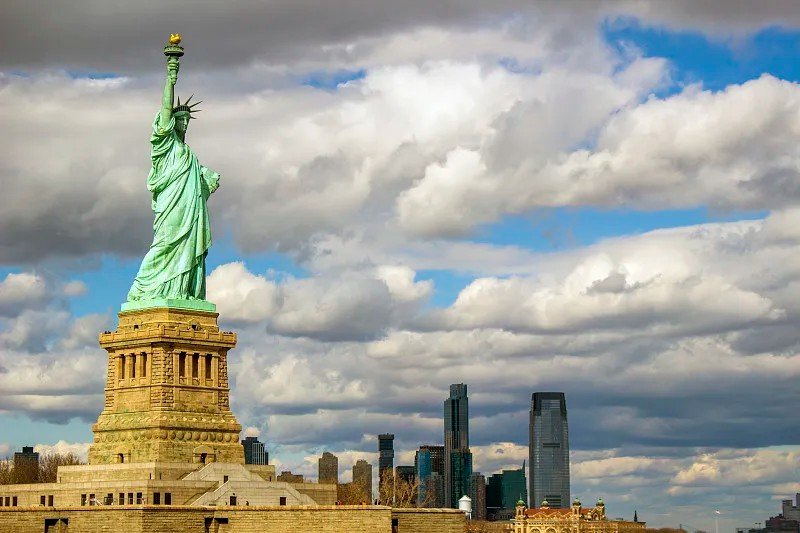SL: (88, 33, 246, 465)
